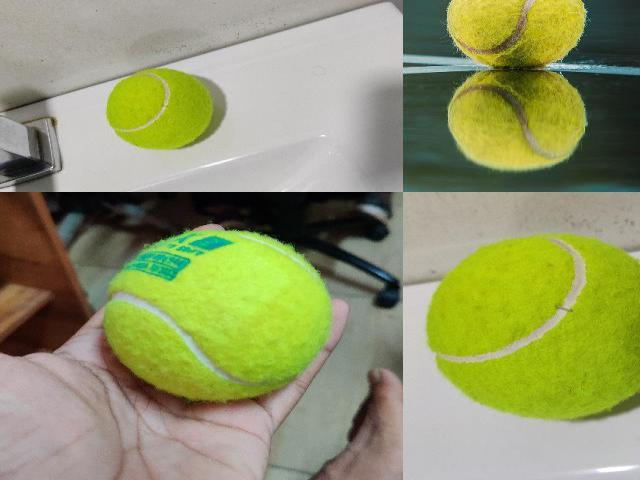tennis-ball: (423, 232, 639, 420), (105, 231, 332, 399), (448, 68, 588, 170), (445, 0, 587, 68), (104, 68, 214, 150)
